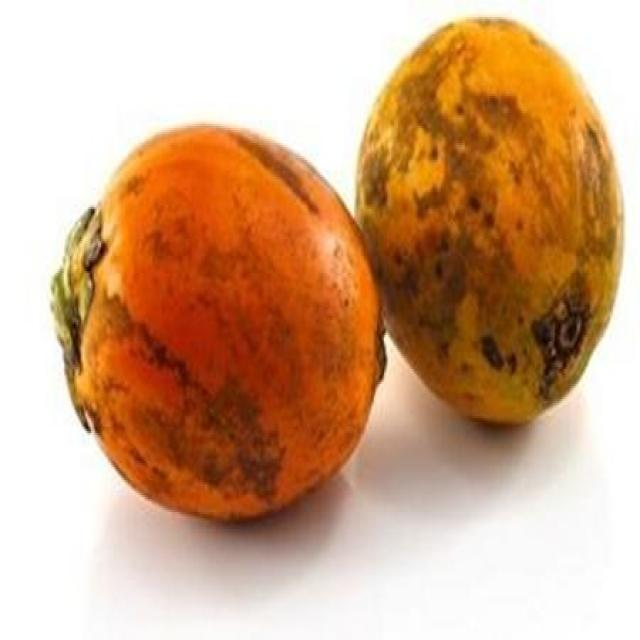good: (50, 124, 387, 525), (353, 19, 626, 429)
